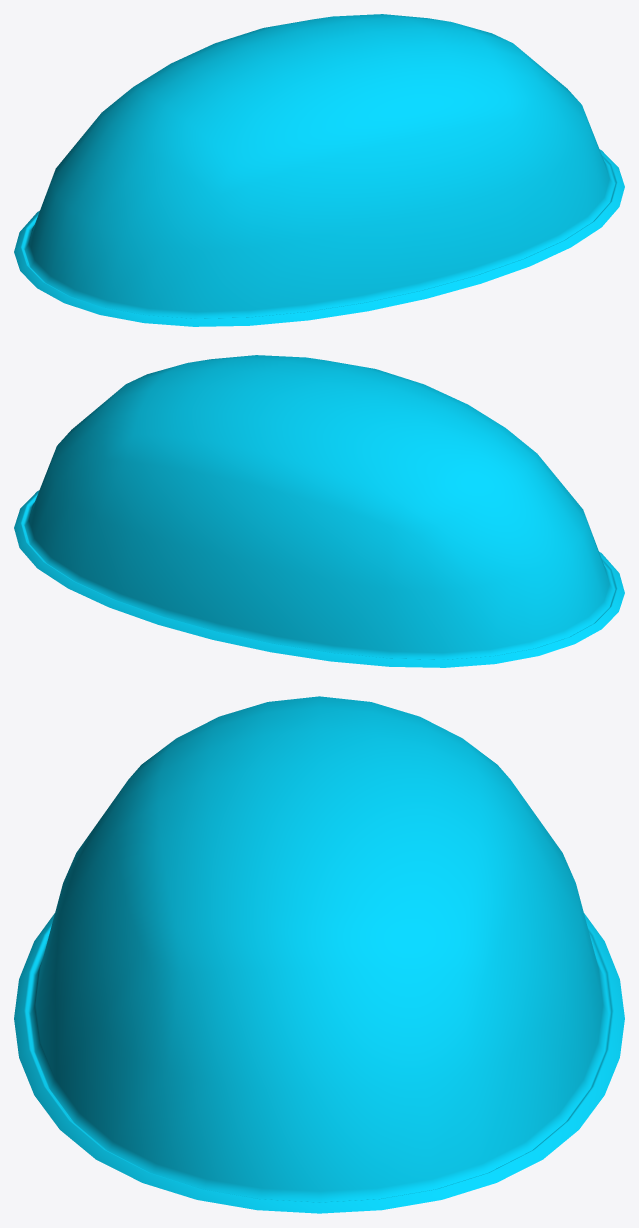
The model's file is Dome_3.fbx.
3 renders of one model, top to bottom at view 1: azimuth 30°, elevation 25°; view 2: azimuth 150°, elevation 25°; view 3: azimuth 270°, elevation 25°, orthographic. The views are drawn at different scales.
Visible parts, largest first — view 1: Dome_3; view 2: Dome_3; view 3: Dome_3.
Part boxes in pixels (x1=…): Dome_3: x1=14, y1=14, x2=624, y2=326; Dome_3: x1=14, y1=355, x2=624, y2=667; Dome_3: x1=14, y1=696, x2=624, y2=1213.
Size of the model in its own units: 30.66 by 9.26 by 20.13.
